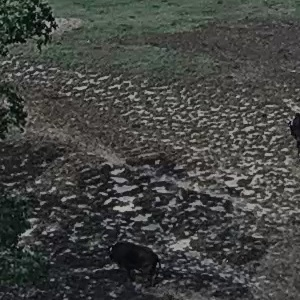cow: (84, 230, 180, 286)
